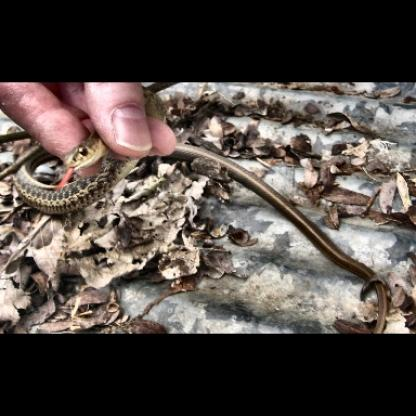Snake: (10, 122, 394, 320)
